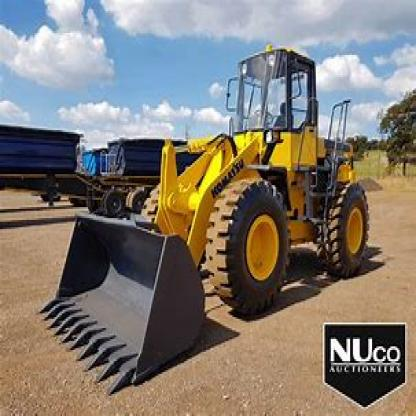bull_dozer/loader/grader: (36, 35, 394, 390)
